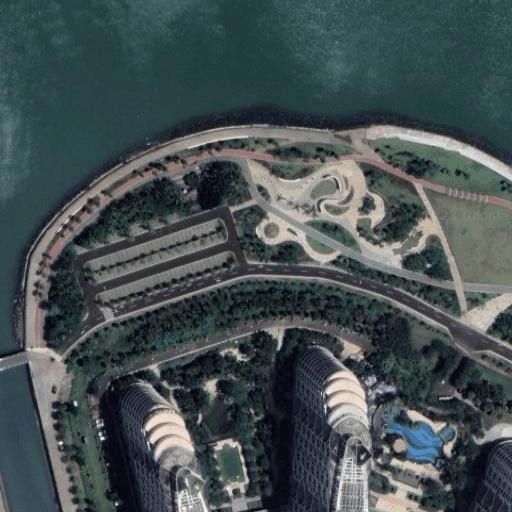building: (121, 383, 196, 512), (293, 349, 344, 512)
